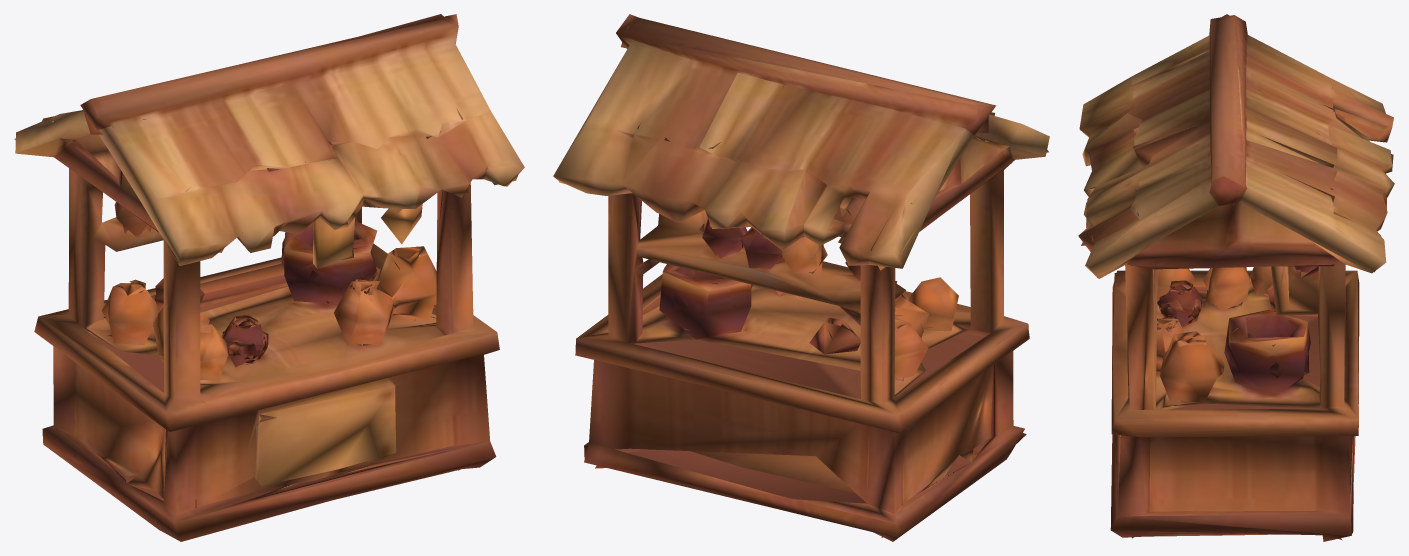
File: lg-market-stall-pots.glb
The picture shows the model from 3 angles, left to right: view 1: azimuth 30°, elevation 25°; view 2: azimuth 150°, elevation 25°; view 3: azimuth 270°, elevation 25°; orthographic projection. The views are drawn at different scales.
Visible parts, largest first — view 1: geometry_0; view 2: geometry_0; view 3: geometry_0.
Part boxes in pixels (x1,y1,x2,y2): geometry_0: (14,14,524,541); geometry_0: (553,14,1049,541); geometry_0: (1078,14,1394,541).
Size of the model in its own units: 0.9391 by 1 by 0.7556.
1 material, 1 textured.
